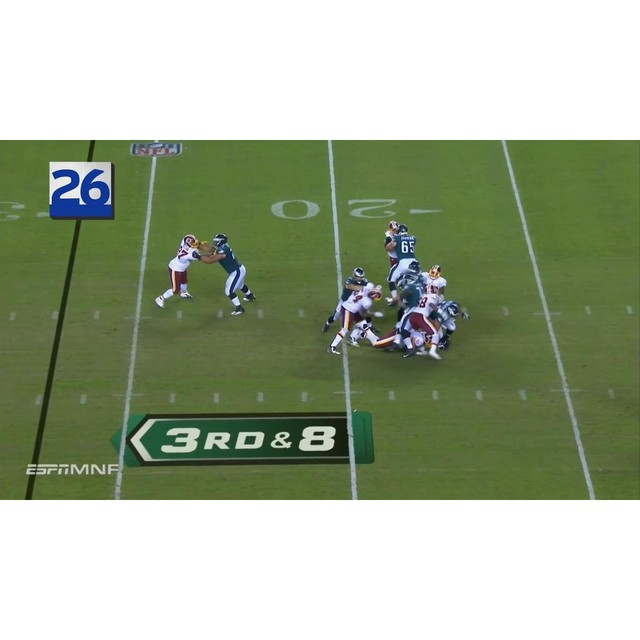american-football-player: (200, 234, 255, 316), (325, 282, 382, 356), (155, 234, 208, 309), (398, 284, 444, 359), (387, 226, 420, 301)
